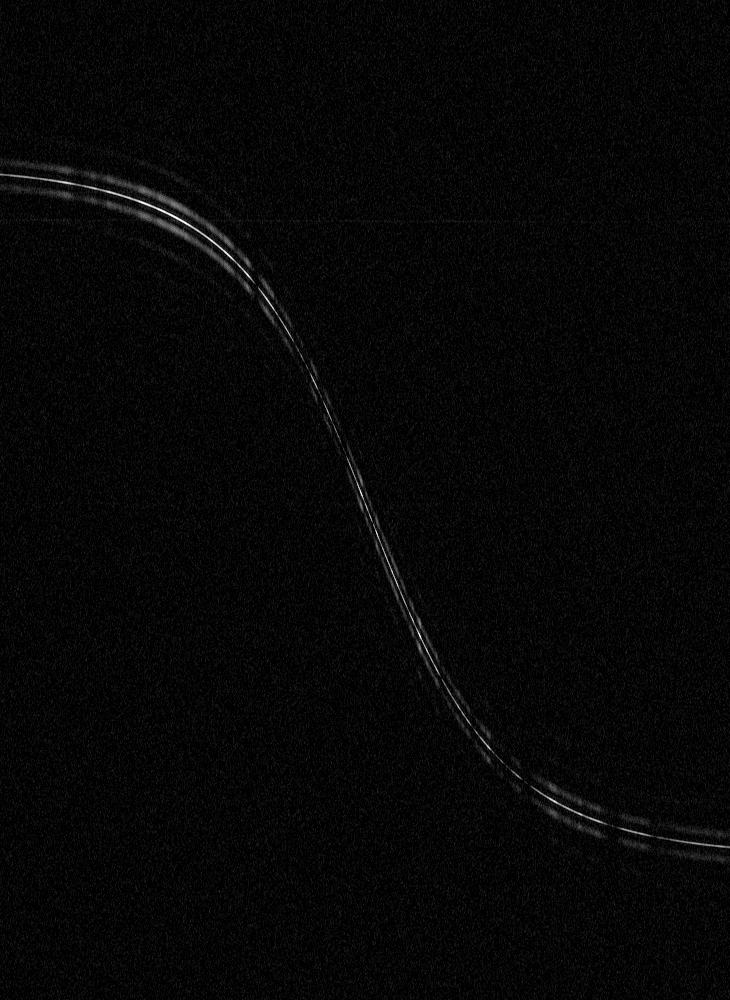signal: (0, 0, 729, 999)
